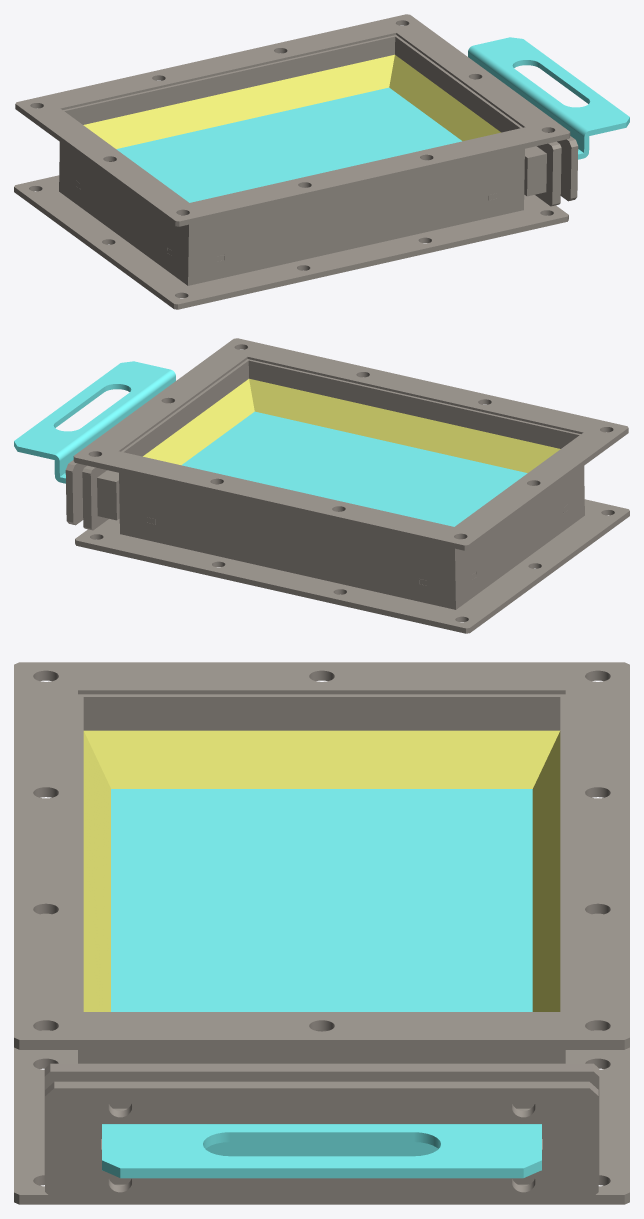
The model's file is assembly-22.glb.
The picture shows the model from 3 angles, top to bottom: view 1: azimuth 30°, elevation 25°; view 2: azimuth 150°, elevation 25°; view 3: azimuth 270°, elevation 25°; orthographic projection. The views are drawn at different scales.
Parts seen in each view (by area): view 1: 閘閥開關-3.-13; view 2: 閘閥開關-3.-13; view 3: 閘閥開關-3.-13.
Boxes of the visible parts, x1,y1,x2,y2 form: 閘閥開關-3.-13: (14,14,629,309); 閘閥開關-3.-13: (14,338,629,633); 閘閥開關-3.-13: (14,662,629,1204).
Bounding box in the file's own units: 0.5745 × 0.1082 × 0.336.
